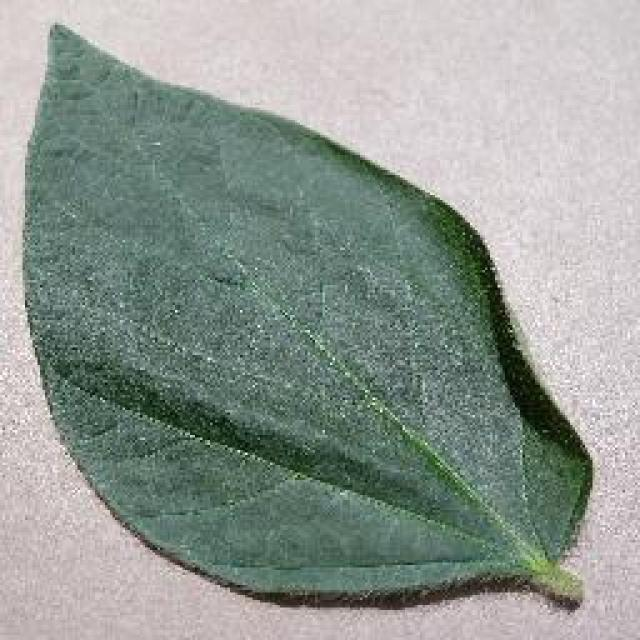Soy_healthy: (31, 44, 520, 574)
